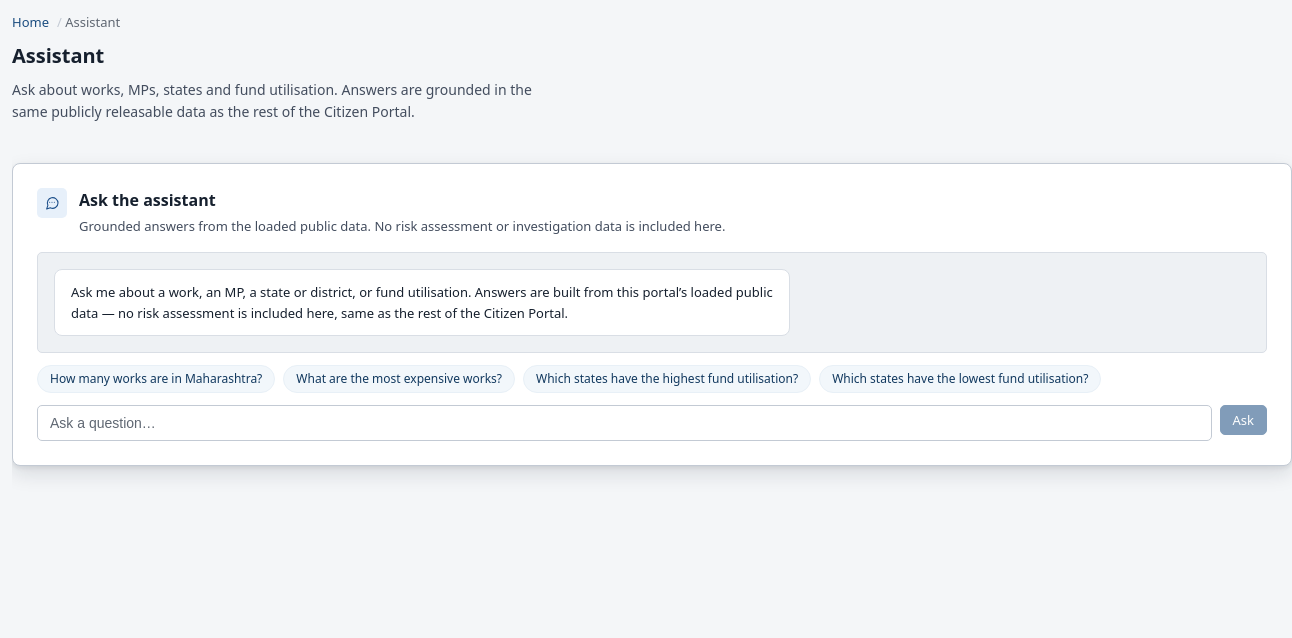
Scenario: CitizenAssistant › answers a typed question with no risk terms in the reply
Type "how many works are in Kerala?" into the field named "Your question" at x=624, y=423, box [37, 405, 1212, 441]
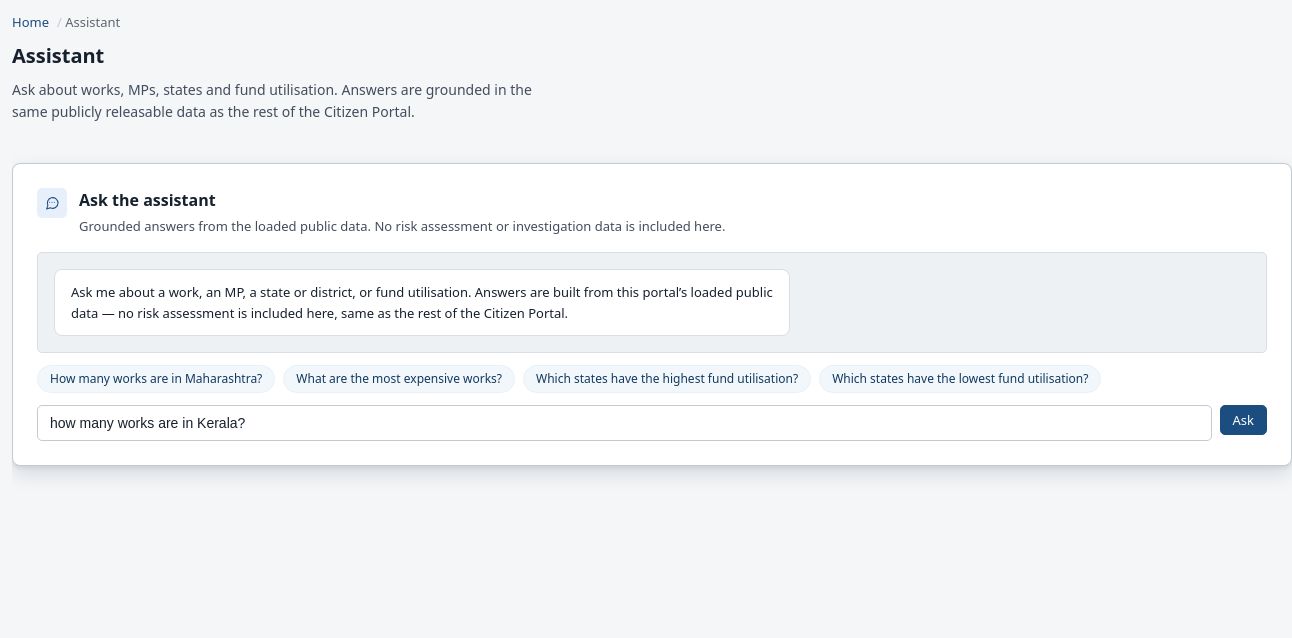
Click the button "Ask" at x=1243, y=420, box [1220, 405, 1267, 435]
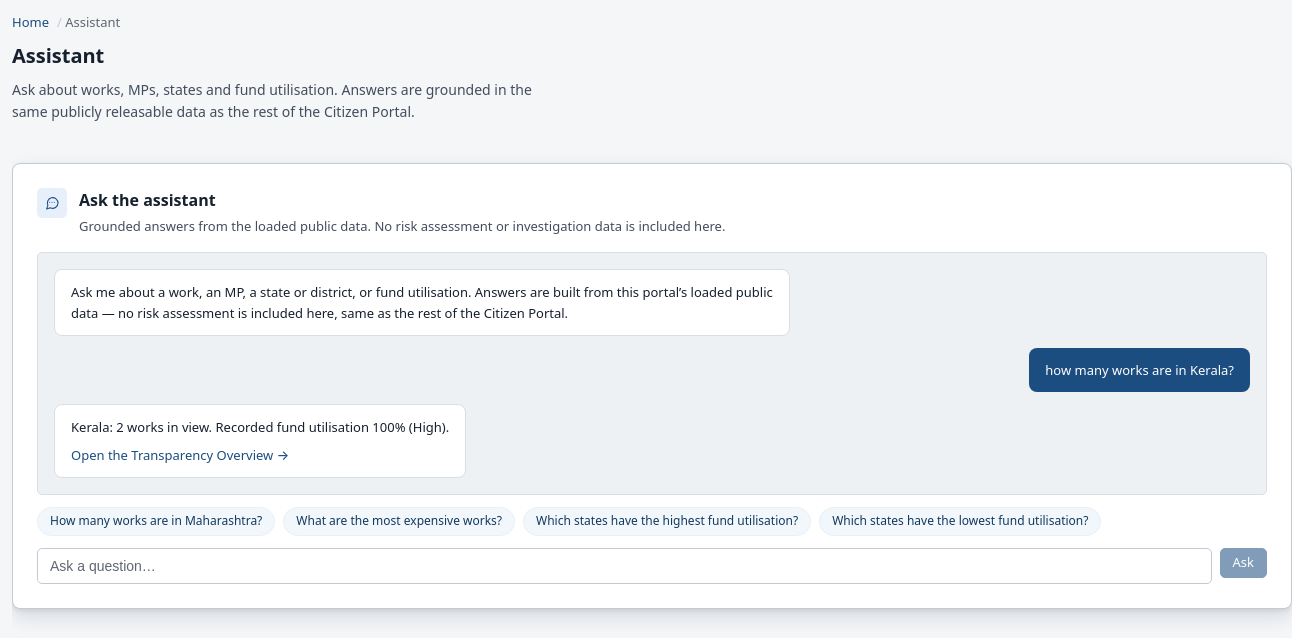
Expected: the text "works in view" is shown, [71, 418, 449, 436]
